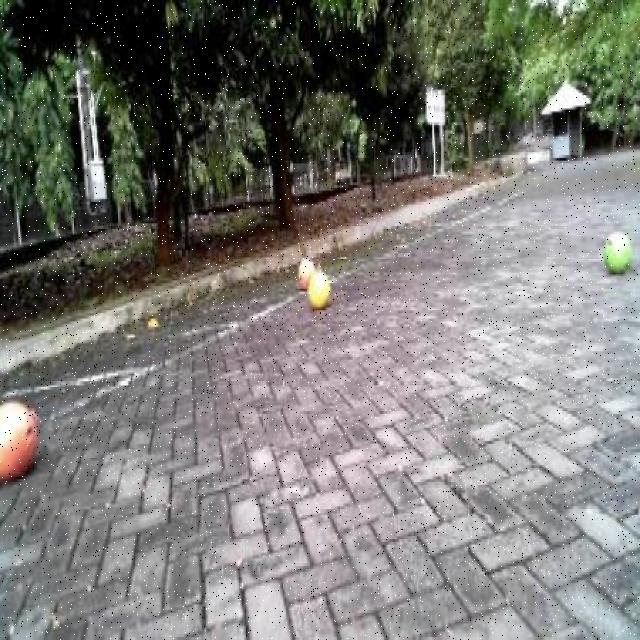buoy: (0, 391, 43, 489), (603, 227, 634, 282), (305, 265, 332, 315), (291, 250, 318, 292)
